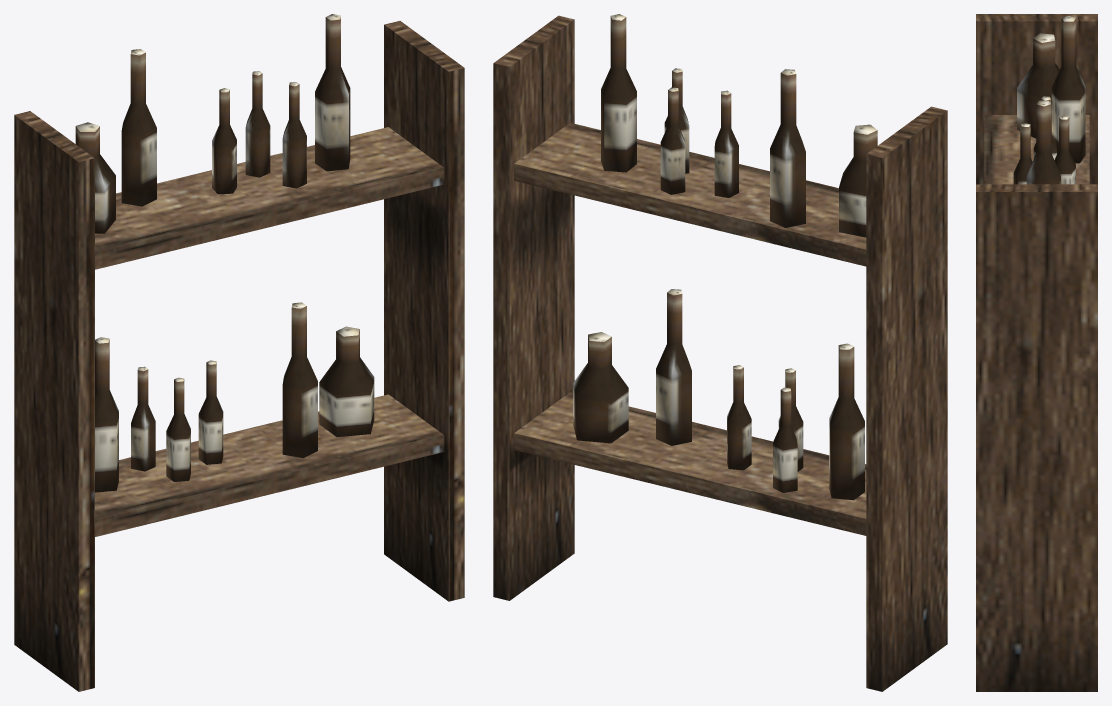
The picture shows the model from 3 angles, left to right: view 1: azimuth 30°, elevation 25°; view 2: azimuth 150°, elevation 25°; view 3: azimuth 270°, elevation 25°; orthographic projection. The views are drawn at different scales.
Visible parts, largest first — view 1: a52; view 2: a52; view 3: a52.
Part boxes in pixels (left/top/right/bottom): a52: left=14, top=14, right=464, bottom=691; a52: left=493, top=14, right=947, bottom=691; a52: left=976, top=14, right=1097, bottom=691.
Bounding box in the file's own units: 407 × 581 × 118.
